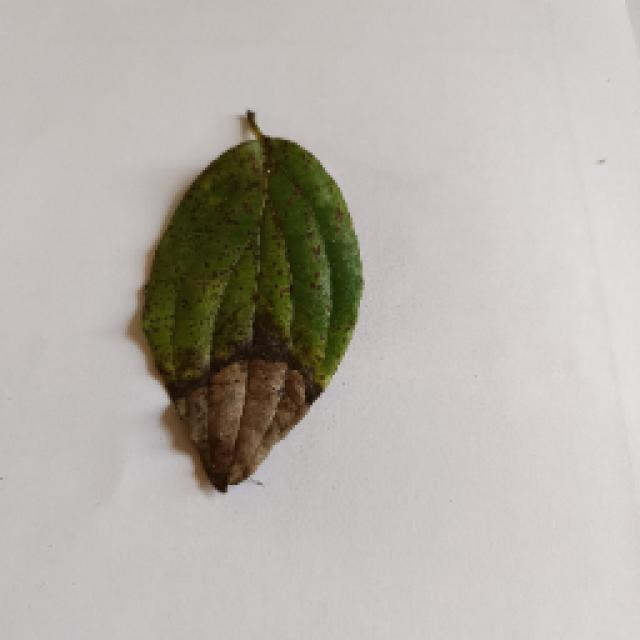footrot: (135, 108, 367, 498)
